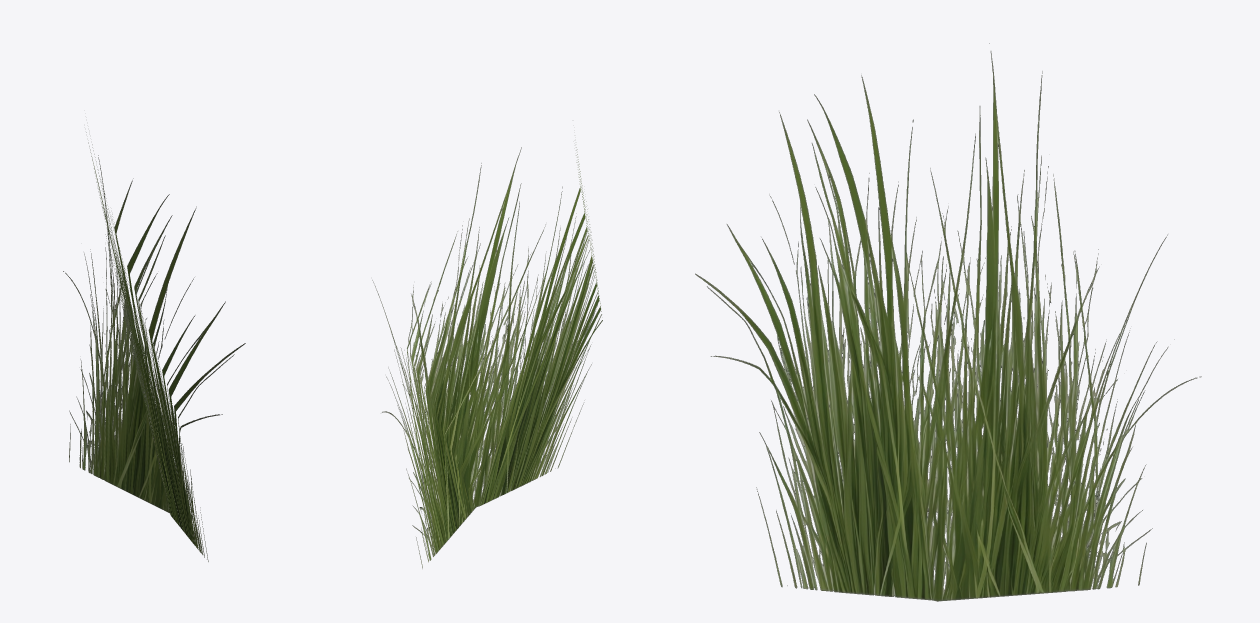
Rendered from Grass.fbx.
3 renders of one model, left to right at view 1: azimuth 30°, elevation 25°; view 2: azimuth 150°, elevation 25°; view 3: azimuth 270°, elevation 25°, orthographic. The views are drawn at different scales.
Parts seen in each view (by area): view 1: Grass; view 2: Grass; view 3: Grass.
Boxes of the visible parts, box(x1,y1,x2,y2) form: Grass: box(63, 132, 245, 561); Grass: box(372, 147, 602, 568); Grass: box(695, 43, 1201, 601).
Size of the model in its own units: 7.75 by 26.5 by 26.5.
1 material, 1 textured.
